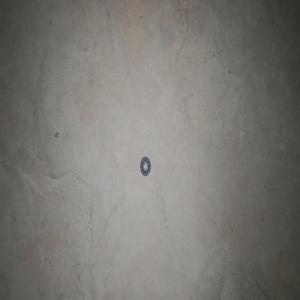Washer: (139, 156, 151, 176)
